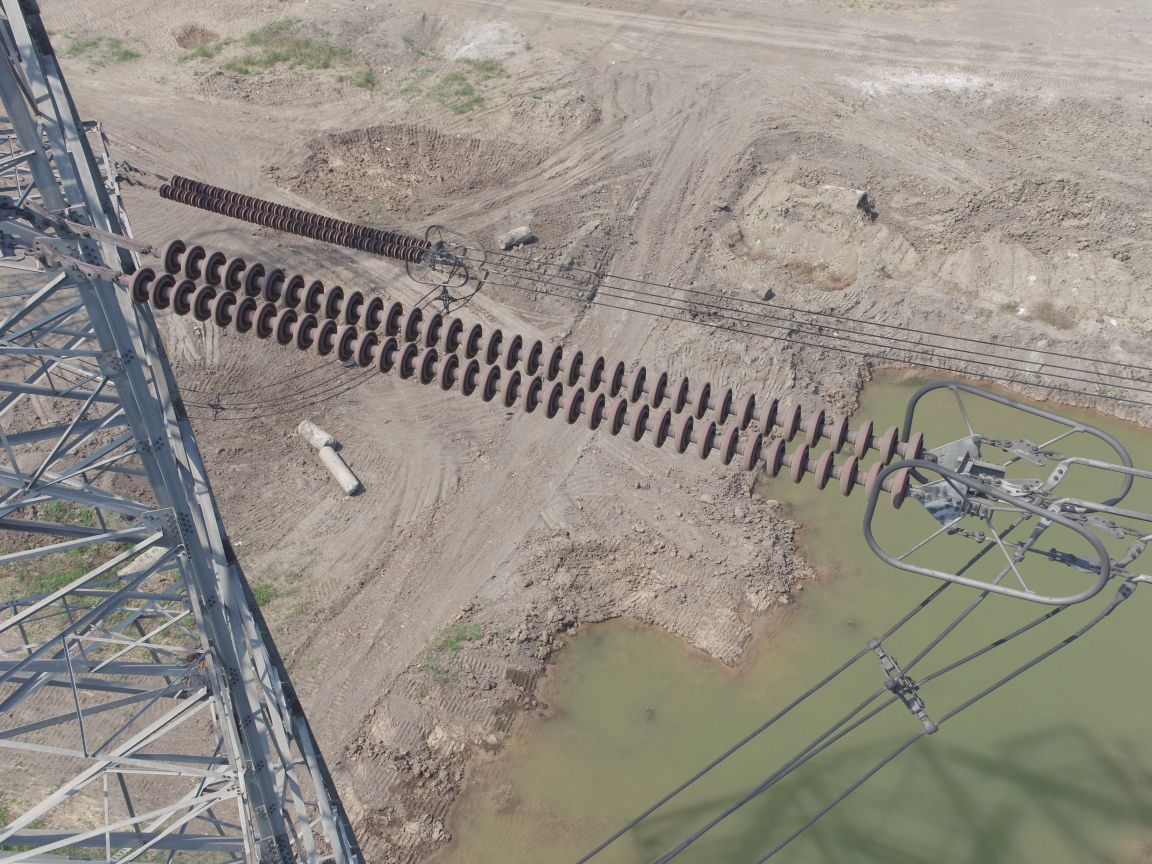insulator: (71, 236, 947, 513), (137, 170, 439, 266)
